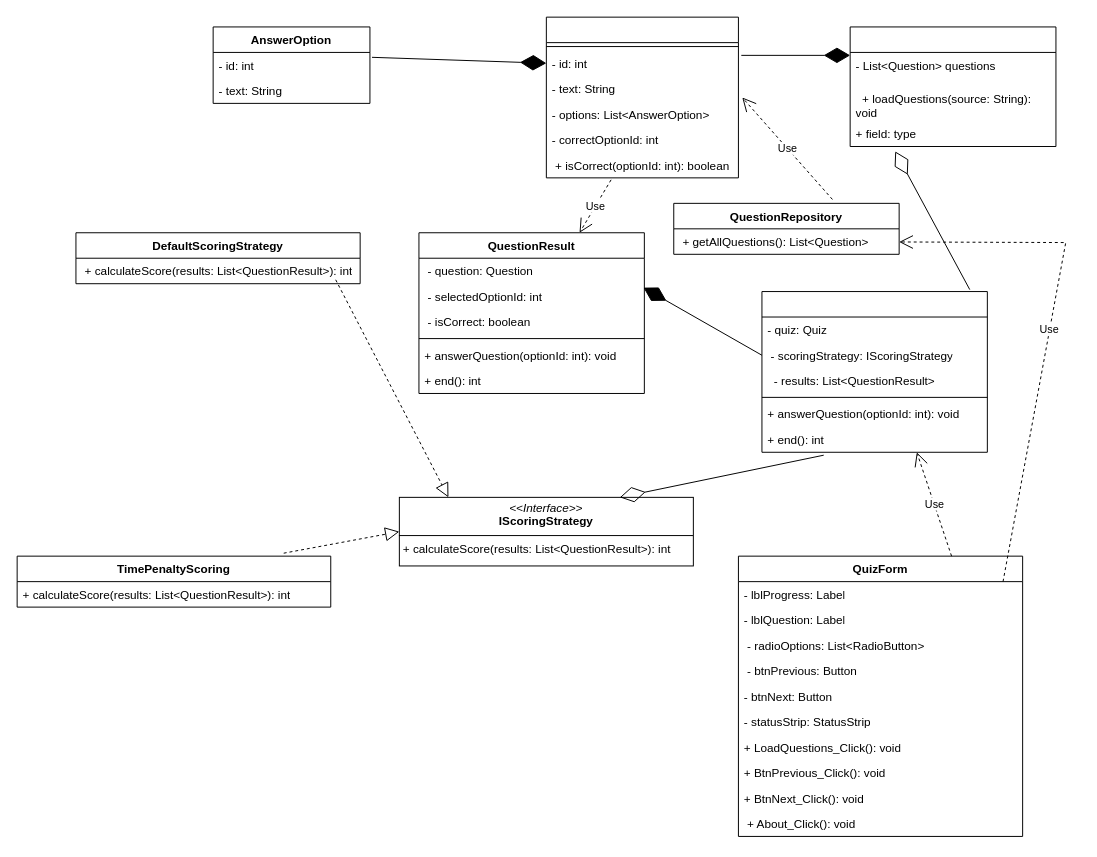
This 1097x857 diagram has some shape labels left out. The box of each missing label's shape, as (x1, y1, x2, y2) in pixels:
Question: (545, 16, 738, 178)
Quiz: (849, 26, 1056, 147)
QuizSession: (761, 291, 987, 452)
